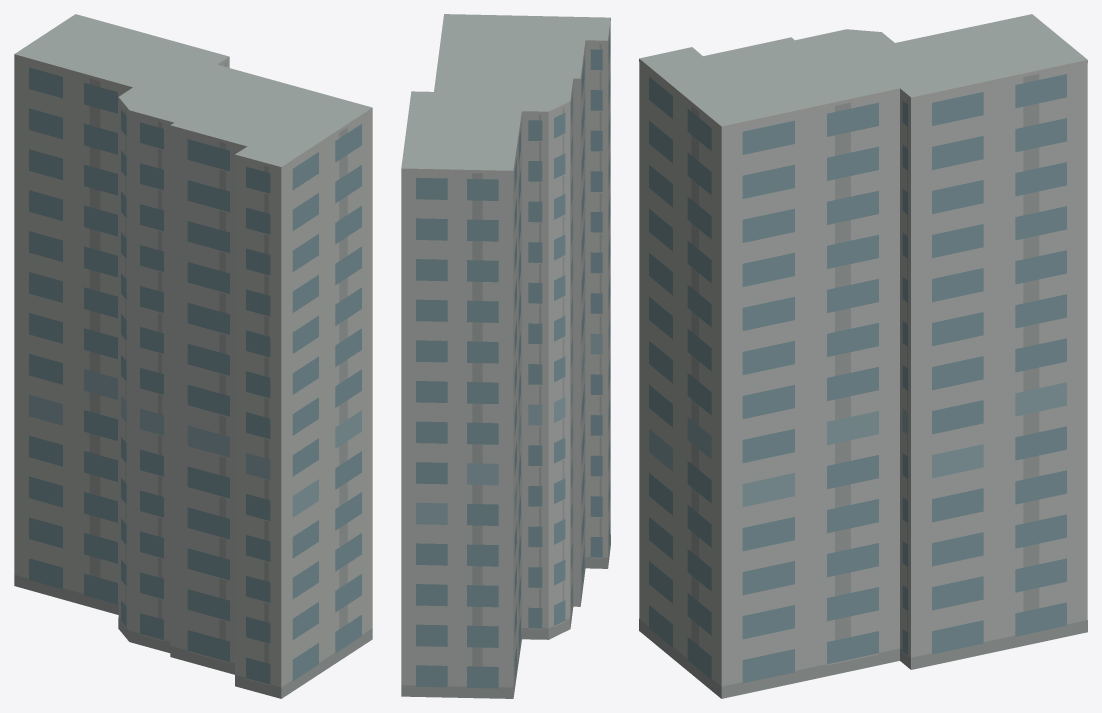
The model's file is survey-upis-32676269.glb.
The picture shows the model from 3 angles, left to right: view 1: azimuth 30°, elevation 25°; view 2: azimuth 150°, elevation 25°; view 3: azimuth 270°, elevation 25°; orthographic projection. The views are drawn at different scales.
Parts seen in each view (by area): view 1: survey-upis-32676269.tmp; view 2: survey-upis-32676269.tmp; view 3: survey-upis-32676269.tmp.
Boxes of the visible parts, box(x1,y1,x2,y2) form: survey-upis-32676269.tmp: box(14, 14, 372, 698); survey-upis-32676269.tmp: box(401, 14, 610, 698); survey-upis-32676269.tmp: box(639, 14, 1087, 698).
Bounding box in the file's own units: 16.4 × 38.88 × 27.63.
